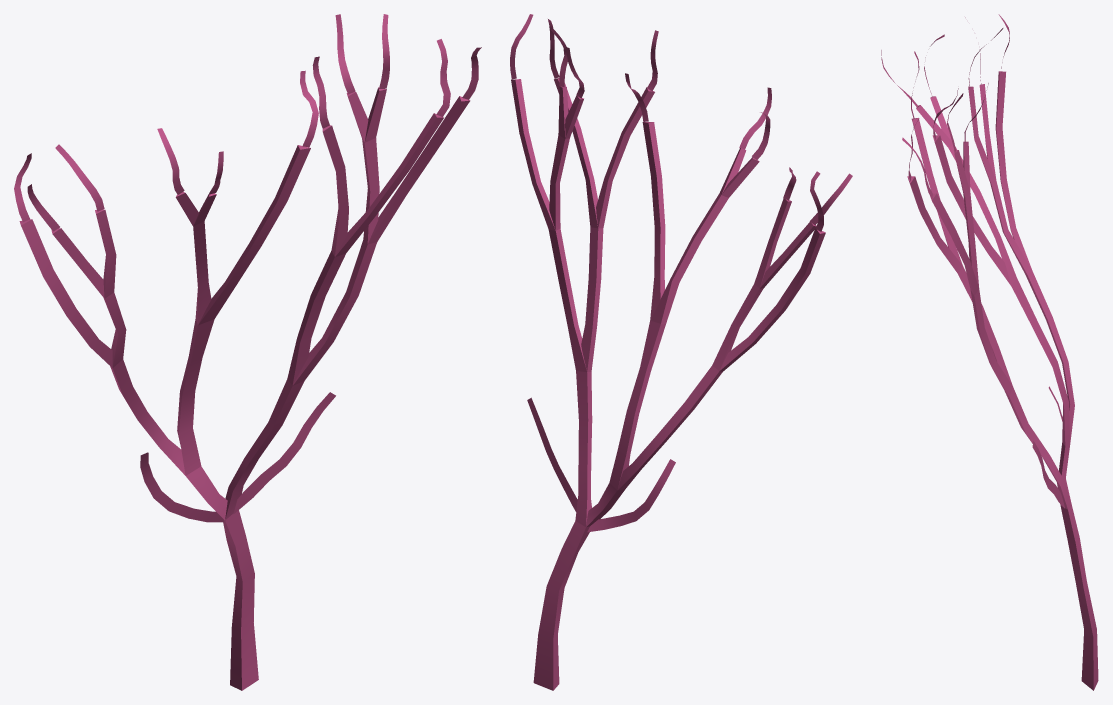
File: coral_B_ultralight.fbx
3 views of the same model, side by side, from view 1: azimuth 30°, elevation 25°; view 2: azimuth 150°, elevation 25°; view 3: azimuth 270°, elevation 25° (orthographic). The views are drawn at different scales.
Visible parts, largest first — view 1: coral_B_twigs, coral_B_leaves; view 2: coral_B_twigs, coral_B_leaves; view 3: coral_B_twigs, coral_B_leaves.
Part boxes in pixels (x1,y1,x2,y2): coral_B_twigs: [19, 87, 470, 690]; coral_B_leaves: [14, 14, 481, 522]; coral_B_twigs: [511, 78, 825, 690]; coral_B_leaves: [510, 14, 852, 532]; coral_B_twigs: [907, 71, 1098, 690]; coral_B_leaves: [881, 14, 1064, 508].
Size of the model in its own units: 84.21 by 133 by 42.16.
